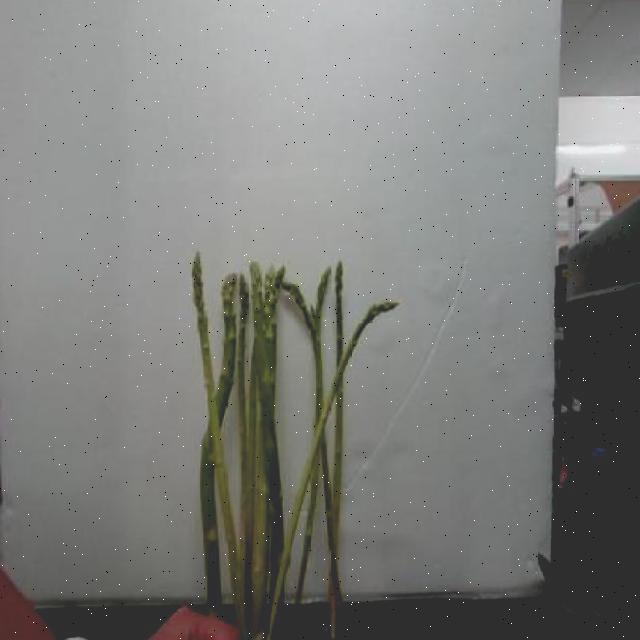aspargus: (262, 302, 403, 636), (191, 248, 248, 640)
